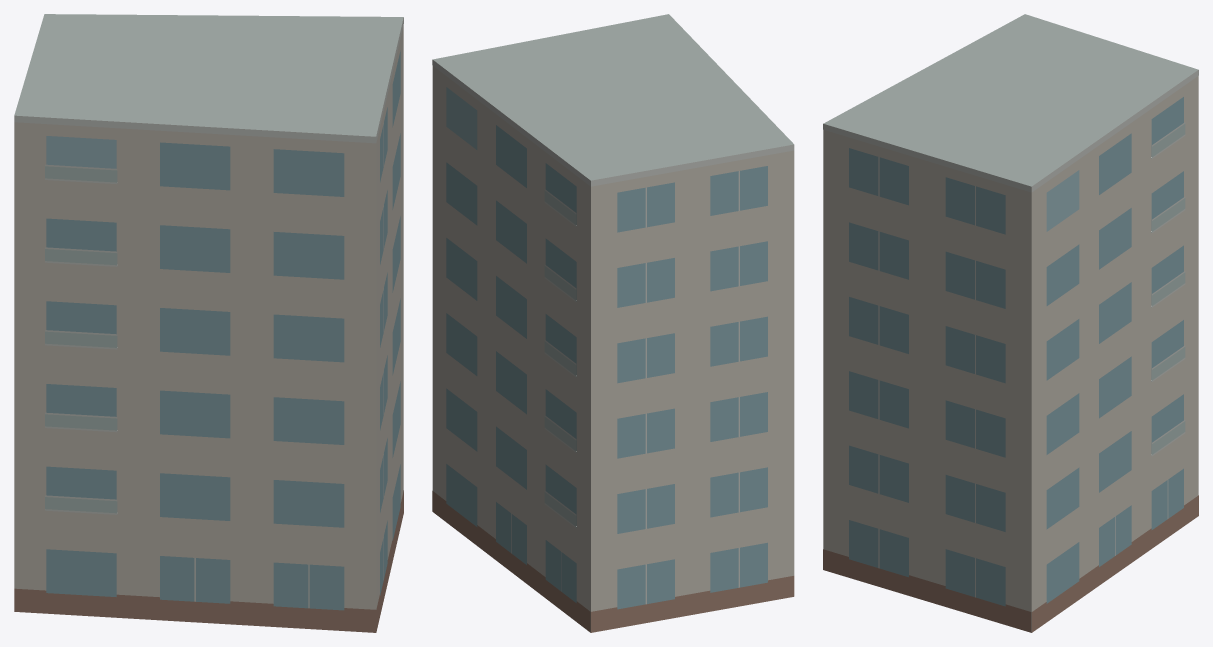
Rendered from survey-upis-32554874.glb.
The picture shows the model from 3 angles, left to right: view 1: azimuth 30°, elevation 25°; view 2: azimuth 150°, elevation 25°; view 3: azimuth 270°, elevation 25°; orthographic projection. The views are drawn at different scales.
Parts seen in each view (by area): view 1: survey-upis-32554874.tmp; view 2: survey-upis-32554874.tmp; view 3: survey-upis-32554874.tmp.
Boxes of the visible parts, left/top/right/bottom form: survey-upis-32554874.tmp: left=14, top=14, right=403, bottom=632; survey-upis-32554874.tmp: left=432, top=14, right=794, bottom=632; survey-upis-32554874.tmp: left=823, top=14, right=1198, bottom=632.
Size of the model in its own units: 15.19 by 18.3 by 13.97.
